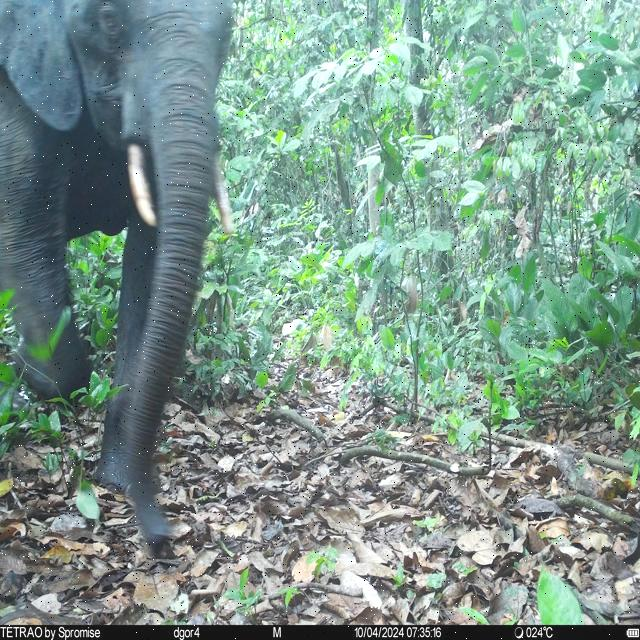ear: (0, 0, 84, 132)
elephant: (0, 0, 239, 560)
tusk: (125, 140, 158, 228), (210, 154, 236, 237)
